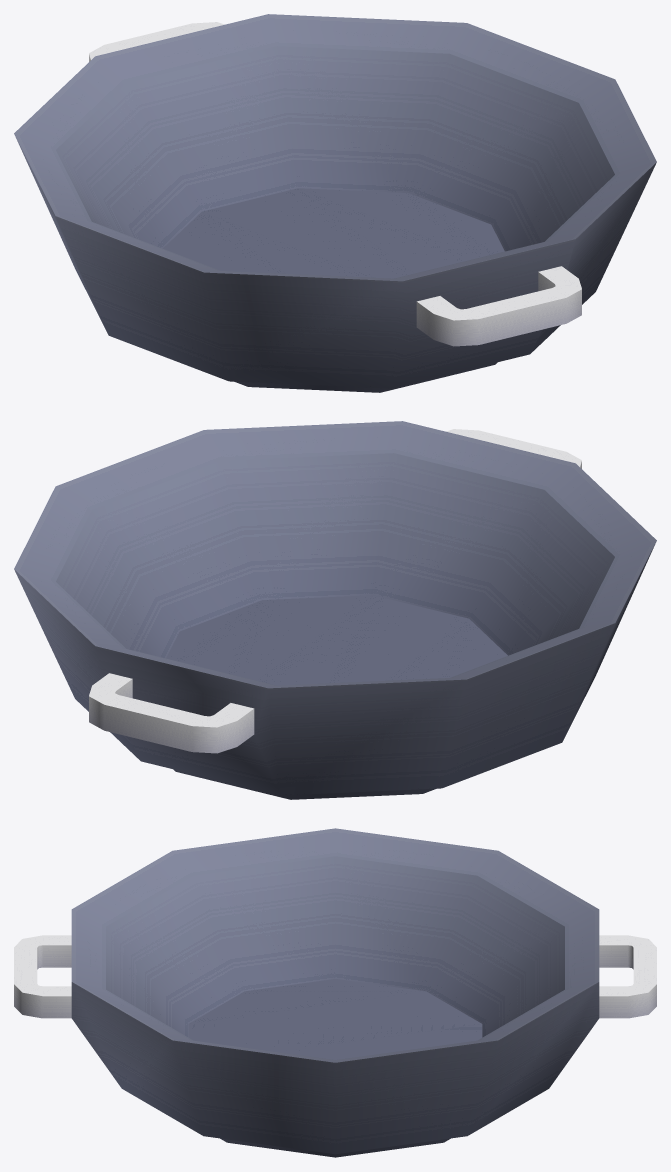
The model's file is pan.glb.
3 views of the same model, one above another, from view 1: azimuth 30°, elevation 25°; view 2: azimuth 150°, elevation 25°; view 3: azimuth 270°, elevation 25° (orthographic). The views are drawn at different scales.
Visible parts, largest first — view 1: pan; view 2: pan; view 3: pan.
Boxes of the visible parts, x1,y1,x2,y2 form: pan: [14, 14, 656, 392]; pan: [14, 421, 656, 799]; pan: [14, 828, 656, 1157].
Bounding box in the file's own units: 0.6574 × 0.1753 × 0.7621.
1 material, 1 textured.
